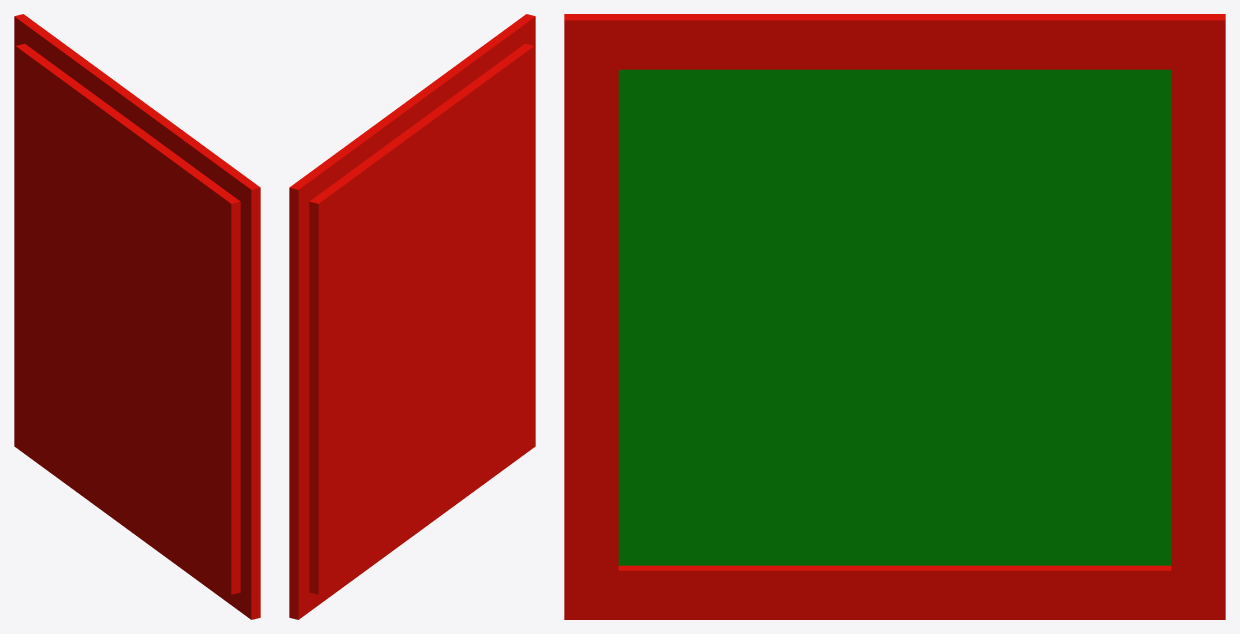
File: Mirror.FBX
3 views of the same model, side by side, from view 1: azimuth 30°, elevation 25°; view 2: azimuth 150°, elevation 25°; view 3: azimuth 270°, elevation 25° (orthographic). The views are drawn at different scales.
Visible parts, largest first — view 1: Box001; view 2: Box001; view 3: Box001.
Boxes of the visible parts, x1,y1,x2,y2 form: Box001: [14, 14, 260, 619]; Box001: [289, 14, 535, 619]; Box001: [564, 14, 1225, 619].
Bounding box in the file's own units: 5 × 110 × 110.
